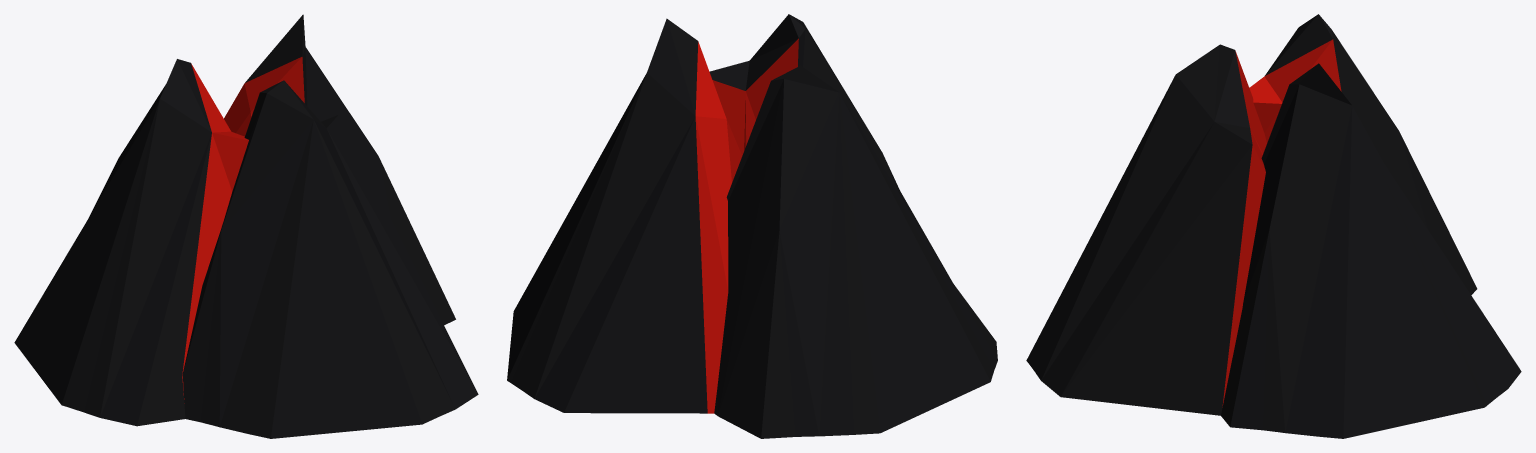
Rendered from volcano.FBX.
3 views of the same model, side by side, from view 1: azimuth 30°, elevation 25°; view 2: azimuth 150°, elevation 25°; view 3: azimuth 270°, elevation 25° (orthographic). The views are drawn at different scales.
Visible parts, largest first — view 1: volcano; view 2: volcano; view 3: volcano.
Boxes of the visible parts, left/top/right/bottom form: volcano: left=14, top=14, right=478, bottom=438; volcano: left=507, top=14, right=997, bottom=438; volcano: left=1026, top=14, right=1521, bottom=438.
Bounding box in the file's own units: 2582 × 1822 × 2647.
